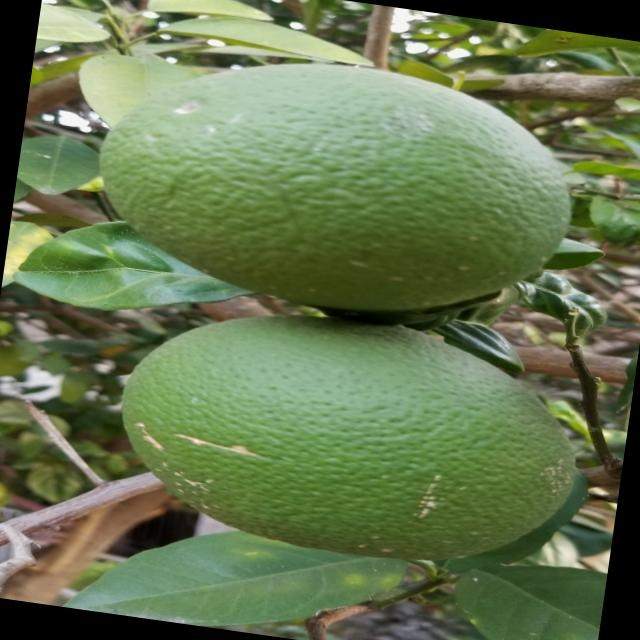agrume: (85, 35, 591, 343), (98, 286, 593, 582)
